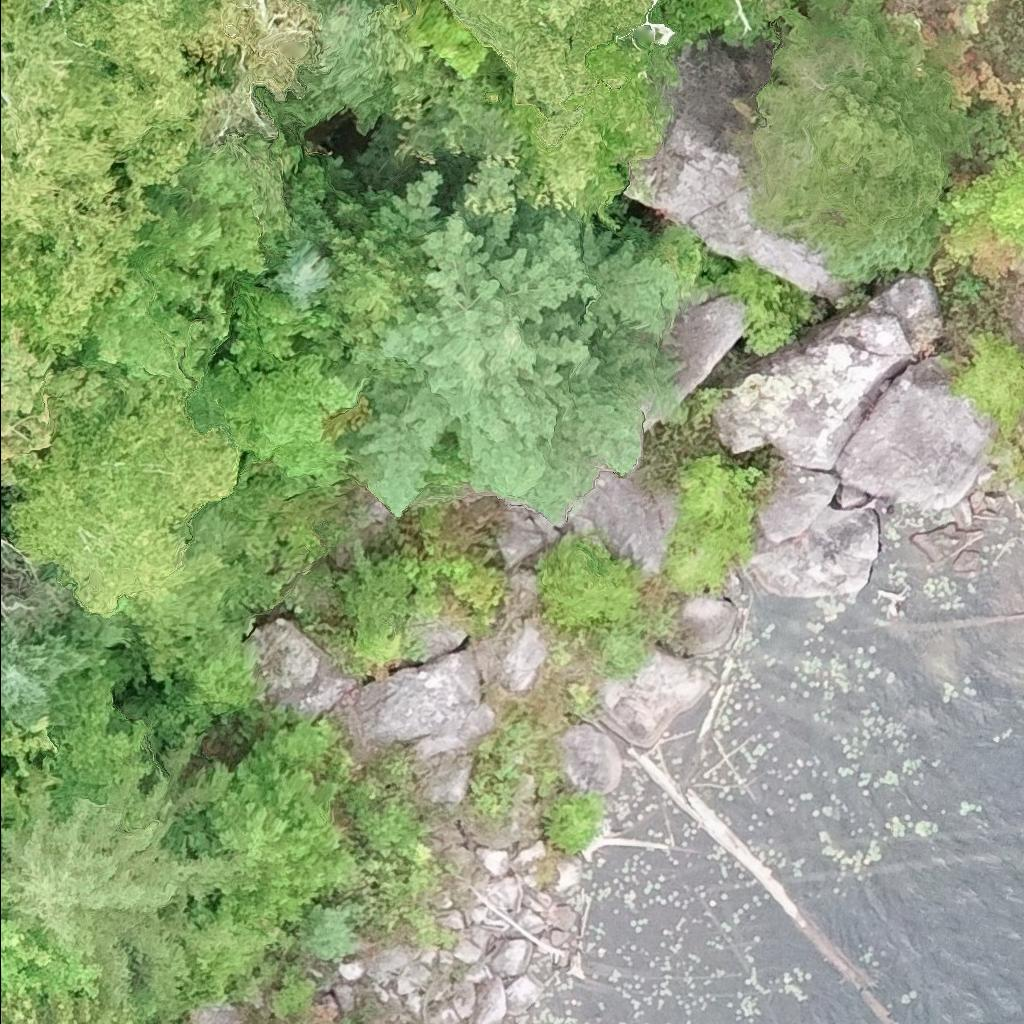crown: (340, 79, 685, 525), (7, 359, 243, 614), (753, 1, 981, 255), (0, 0, 155, 327), (0, 764, 206, 1002), (65, 0, 250, 187), (92, 198, 268, 389), (184, 347, 367, 481), (446, 0, 646, 114), (320, 196, 423, 347), (298, 0, 401, 131), (0, 880, 104, 1003), (230, 273, 356, 373), (0, 246, 99, 368), (0, 324, 60, 486), (0, 628, 91, 729), (267, 216, 343, 313), (0, 717, 64, 822), (939, 167, 1023, 247), (0, 991, 142, 1023), (0, 611, 10, 641), (0, 860, 5, 876)
